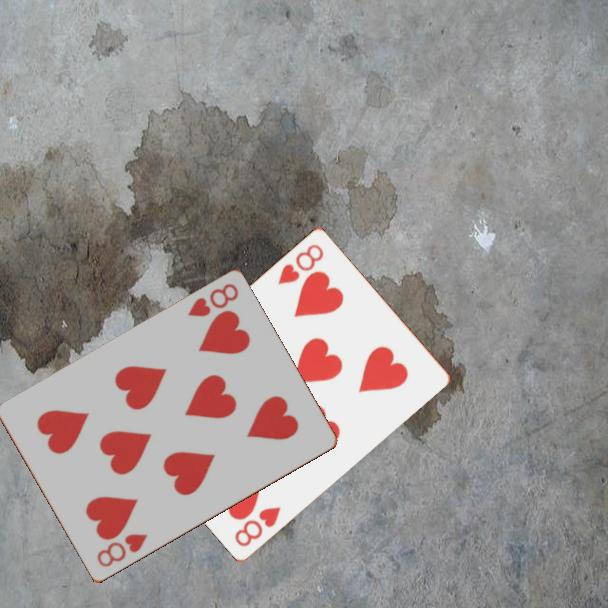h08: (274, 240, 327, 287), (231, 503, 284, 549), (93, 530, 150, 571), (184, 280, 242, 320)
